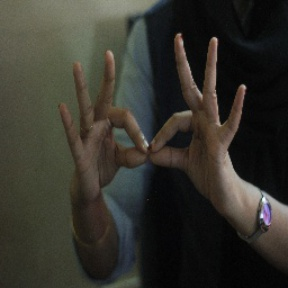B: (93, 85, 214, 189)
